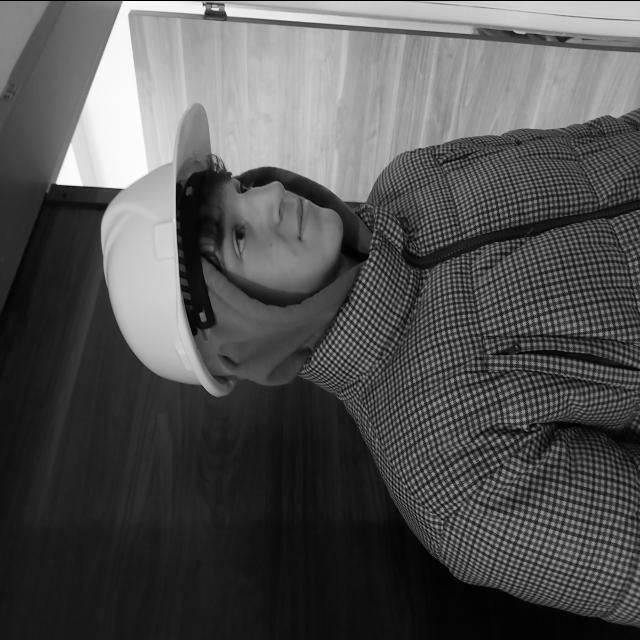construction helmet: (99, 105, 233, 396)
